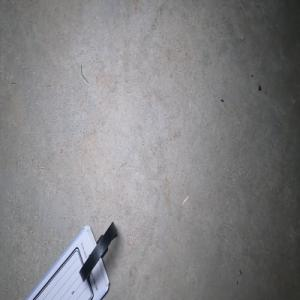LuggageTag: (24, 219, 118, 300)
